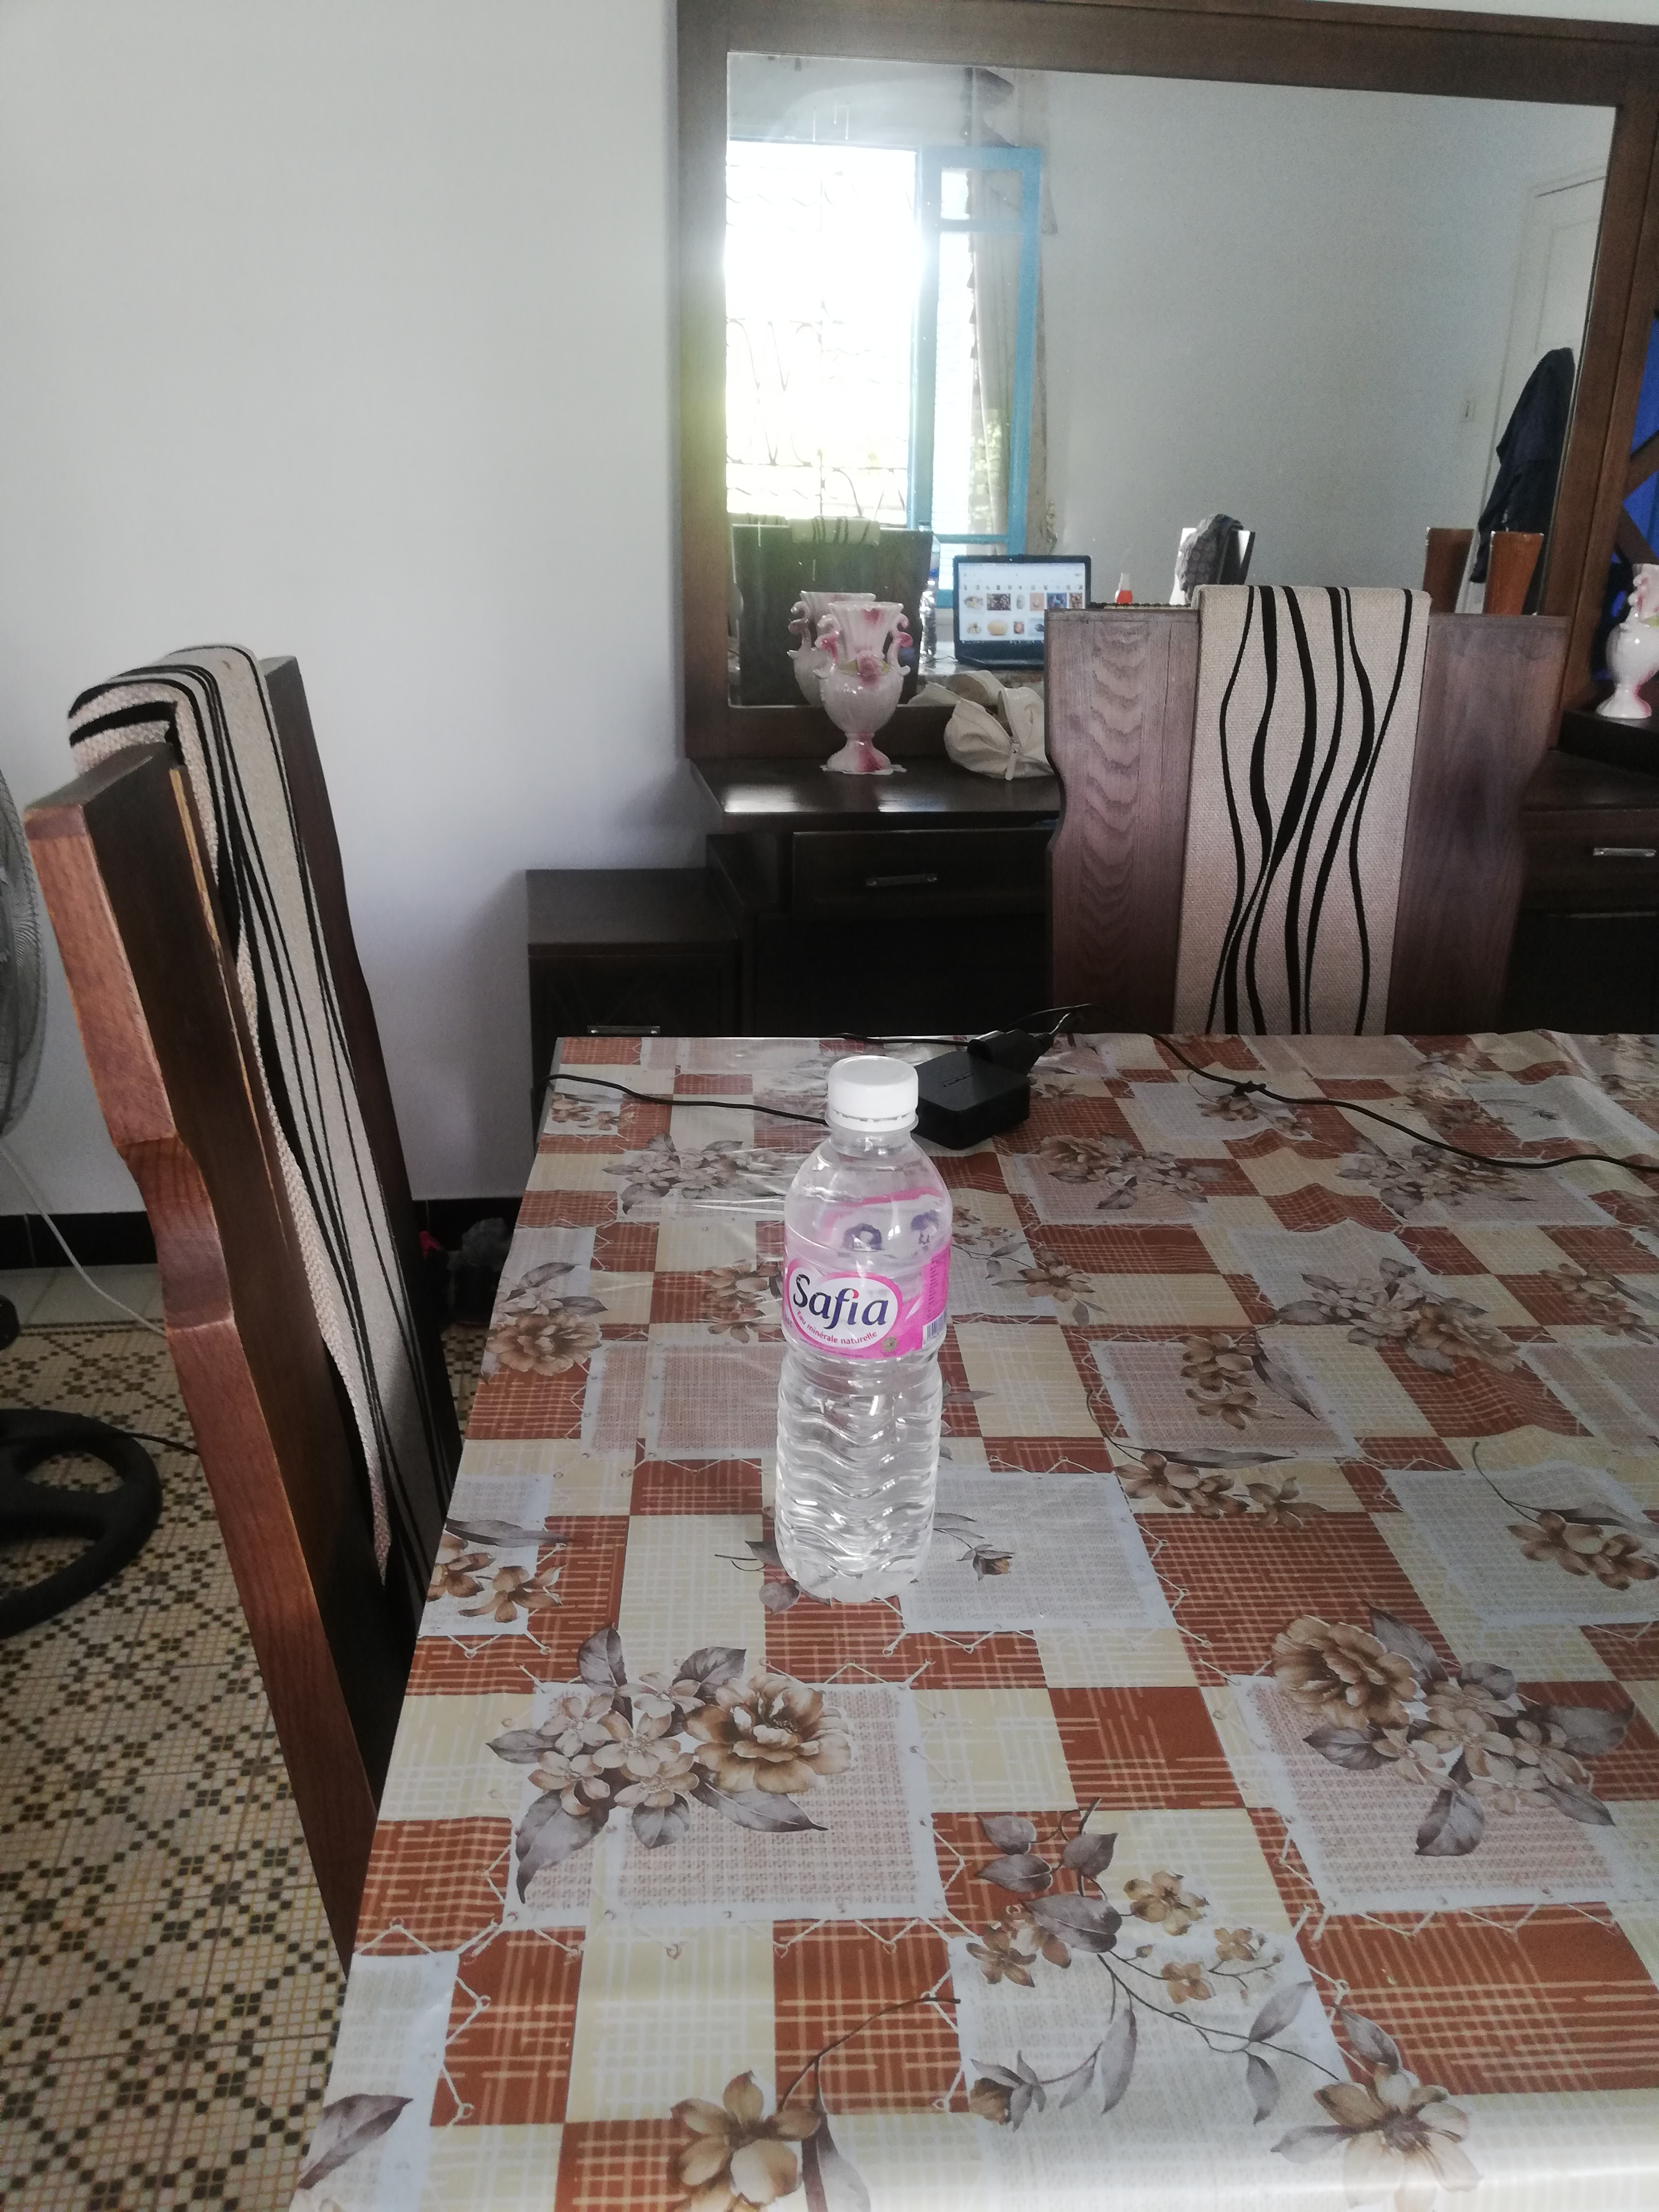Eau safia: (774, 1064, 950, 1613)
